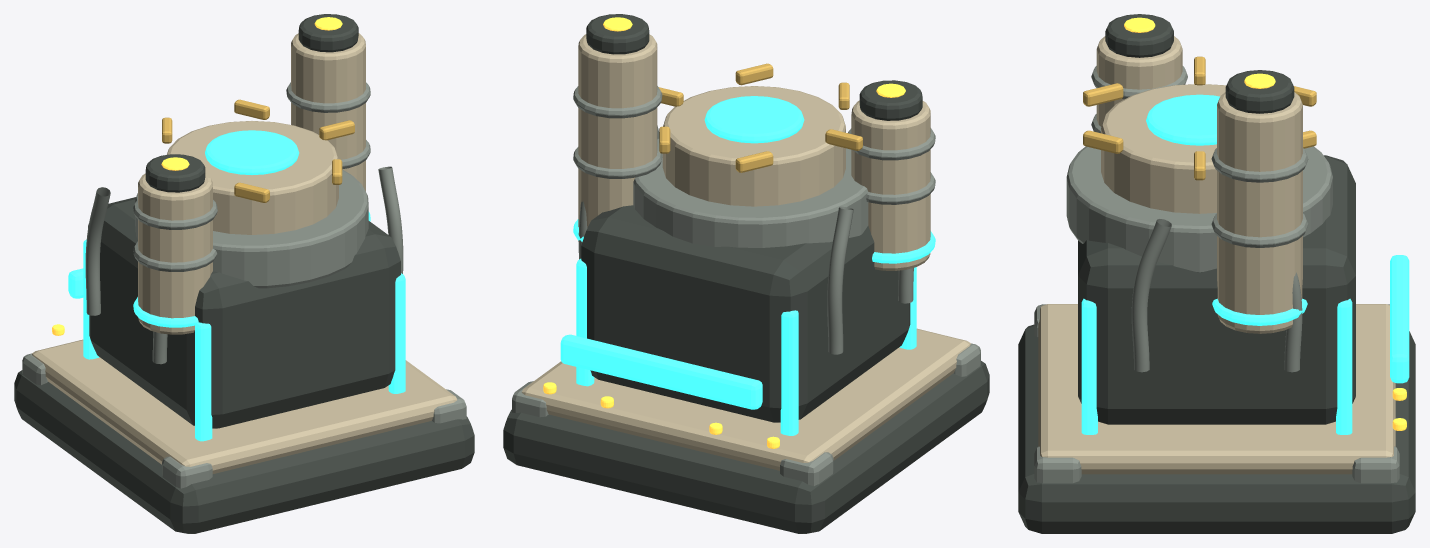
Rendered from power.glb.
The picture shows the model from 3 angles, left to right: view 1: azimuth 30°, elevation 25°; view 2: azimuth 150°, elevation 25°; view 3: azimuth 270°, elevation 25°; orthographic projection. The views are drawn at different scales.
Visible parts, largest first — view 1: Reactor pressure vessel housing, Layered armored foundation.001, Ceramic foundation cap.001, Ceramic reactor crown, Primary reactor containment ring, Cooling stack 1, Cooling stack 2, Luminous reactor aperture, TeamColor, Reactor coolant loop.001, Vented stack crown, Vented stack crown.001 (+10 smaller); view 2: Reactor pressure vessel housing, Layered armored foundation.001, Ceramic foundation cap.001, Ceramic reactor crown, Primary reactor containment ring, Cooling stack 2, Cooling stack 1, High voltage busbar, Luminous reactor aperture, Reactor coolant loop.001, TeamColor luminous column.003, Vented stack crown (+14 smaller); view 3: Reactor pressure vessel housing, Layered armored foundation.001, Ceramic foundation cap.001, Cooling stack 2, Primary reactor containment ring, Ceramic reactor crown, Cooling stack 1, Luminous reactor aperture, Reactor coolant loop.002, High voltage busbar, Vented stack crown.001, Vented stack crown (+11 smaller).
Boxes of the visible parts, x1,y1,x2,y2 form: Reactor pressure vessel housing: (88, 197, 400, 428); Layered armored foundation.001: (14, 370, 474, 533); Ceramic foundation cap.001: (32, 339, 457, 473); Ceramic reactor crown: (167, 121, 338, 234); Primary reactor containment ring: (135, 169, 368, 288); Cooling stack 1: (138, 173, 212, 334); Cooling stack 2: (291, 33, 365, 191); Luminous reactor aperture: (205, 130, 299, 174); TeamColor: (195, 322, 212, 441); Reactor coolant loop.001: (85, 187, 110, 315); Vented stack crown: (145, 154, 205, 192); Vented stack crown.001: (298, 14, 358, 52); Reactor pressure vessel housing: (581, 205, 910, 422); Layered armored foundation.001: (503, 361, 989, 533); Ceramic foundation cap.001: (521, 328, 971, 470); Ceramic reactor crown: (662, 86, 845, 206); Primary reactor containment ring: (633, 137, 868, 247); Cooling stack 2: (578, 34, 657, 241); Cooling stack 1: (851, 100, 930, 270); High voltage busbar: (560, 334, 762, 409); Luminous reactor aperture: (704, 96, 804, 143); Reactor coolant loop.001: (827, 206, 853, 354); TeamColor luminous column.003: (780, 310, 798, 435); Vented stack crown: (859, 80, 922, 120); Reactor pressure vessel housing: (1078, 155, 1355, 424); Layered armored foundation.001: (1018, 324, 1415, 533); Ceramic foundation cap.001: (1038, 304, 1395, 474); Cooling stack 2: (1217, 92, 1302, 333); Primary reactor containment ring: (1066, 146, 1332, 272); Ceramic reactor crown: (1101, 84, 1226, 213); Cooling stack 1: (1096, 36, 1182, 126); Luminous reactor aperture: (1146, 94, 1219, 145); Reactor coolant loop.002: (1131, 219, 1171, 372); High voltage busbar: (1390, 255, 1409, 383); Vented stack crown.001: (1225, 70, 1294, 113); Vented stack crown: (1105, 14, 1173, 57).
Size of the model in its own units: 1.85 by 2.24 by 1.85.
